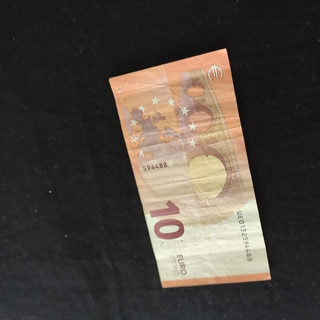10EUROBack: (107, 48, 271, 289)
